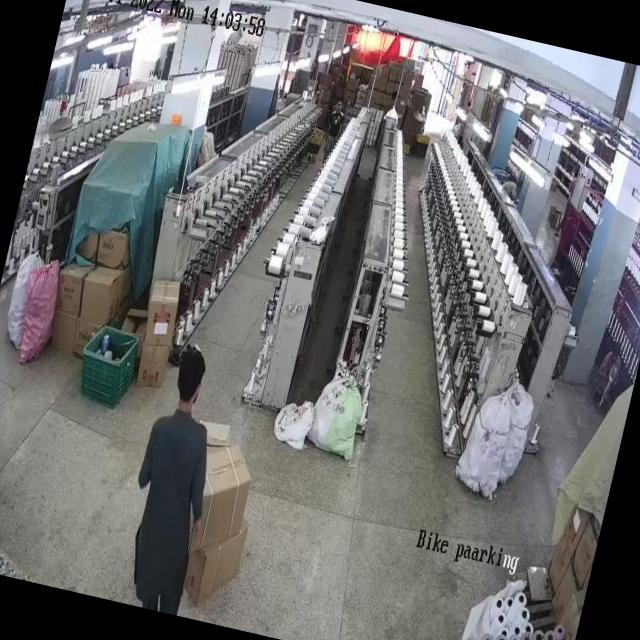person: (112, 336, 242, 616), (322, 91, 352, 157)
